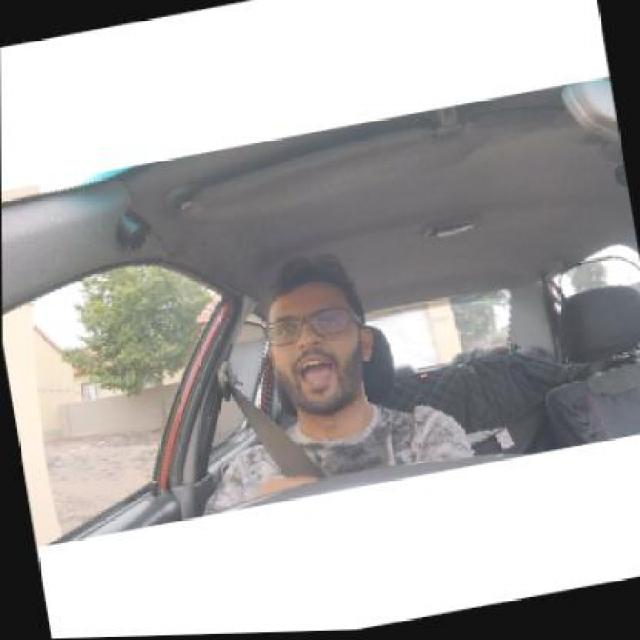person: (248, 253, 387, 430)
